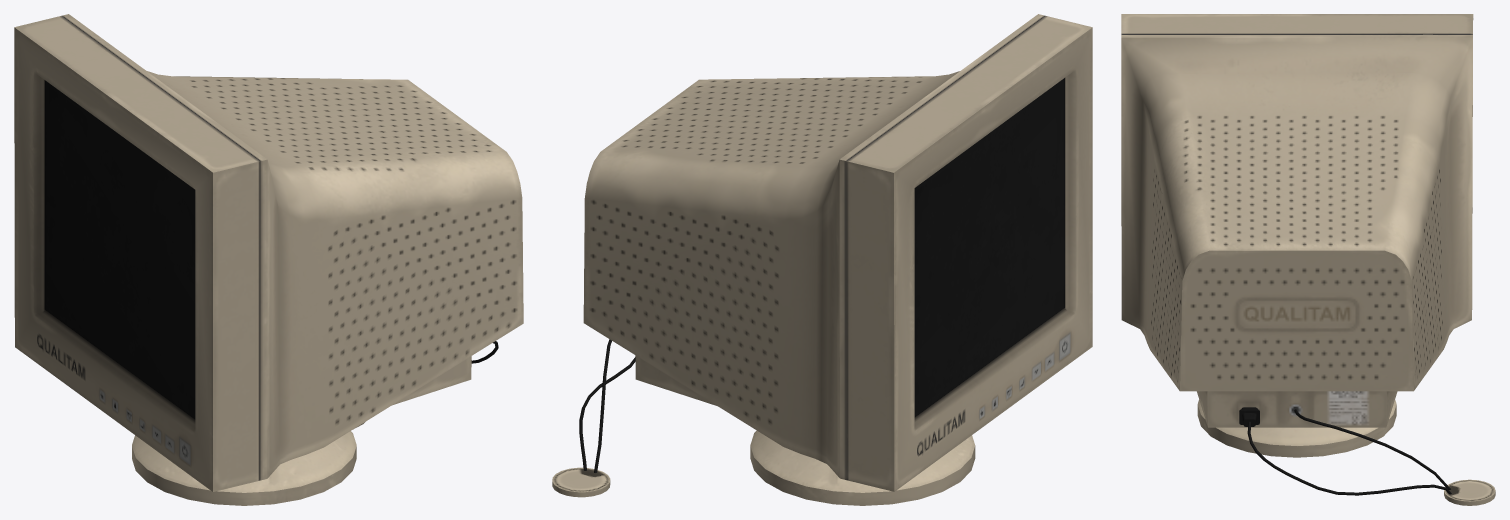
The model's file is HH_Computer_Monitor_01.fbx.
3 views of the same model, side by side, from view 1: azimuth 30°, elevation 25°; view 2: azimuth 150°, elevation 25°; view 3: azimuth 270°, elevation 25° (orthographic). The views are drawn at different scales.
Visible parts, largest first — view 1: HH_Computer_Monitor_01_LOD0; view 2: HH_Computer_Monitor_01_LOD0; view 3: HH_Computer_Monitor_01_LOD0.
Part boxes in pixels (x1,y1,x2,y2): HH_Computer_Monitor_01_LOD0: [14, 14, 523, 505]; HH_Computer_Monitor_01_LOD0: [552, 14, 1092, 505]; HH_Computer_Monitor_01_LOD0: [1121, 14, 1495, 505].
Size of what is drawn, in the model's own units: 50.91 by 50.91 by 50.03.
